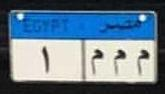1: (42, 45, 49, 75)
meem: (134, 48, 151, 77), (90, 48, 108, 74), (113, 49, 129, 75)
